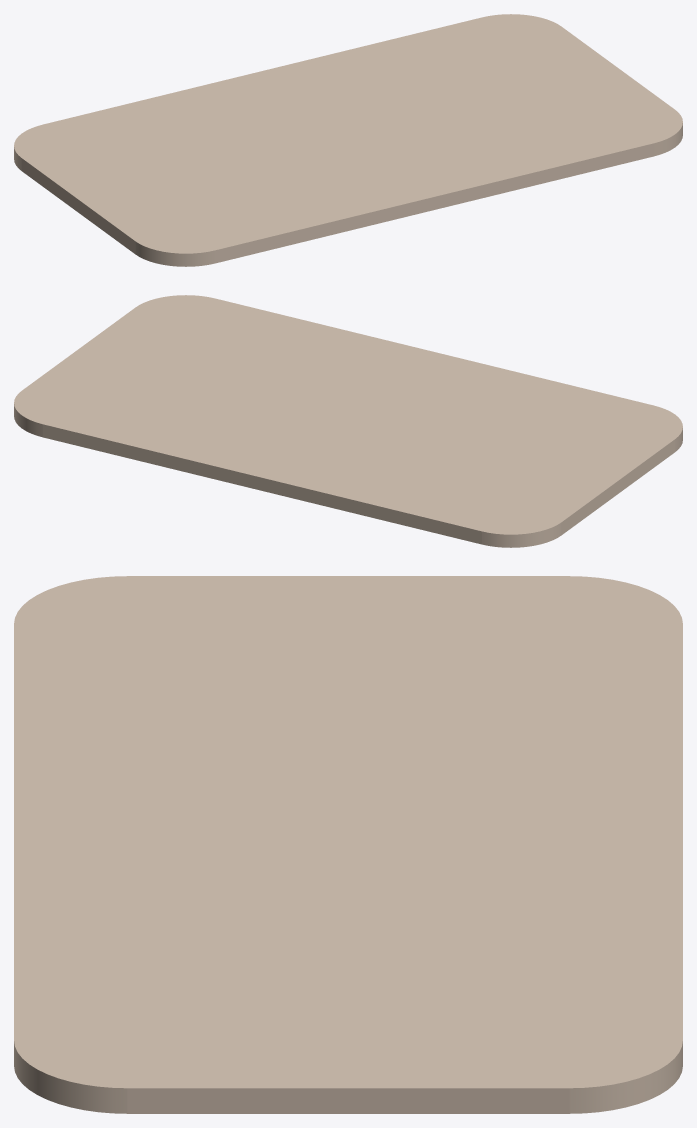
File: furn_rugDoormat.glb
3 views of the same model, one above another, from view 1: azimuth 30°, elevation 25°; view 2: azimuth 150°, elevation 25°; view 3: azimuth 270°, elevation 25° (orthographic). The views are drawn at different scales.
Size of the model in its own units: 0.8586 by 0.02 by 0.474.
